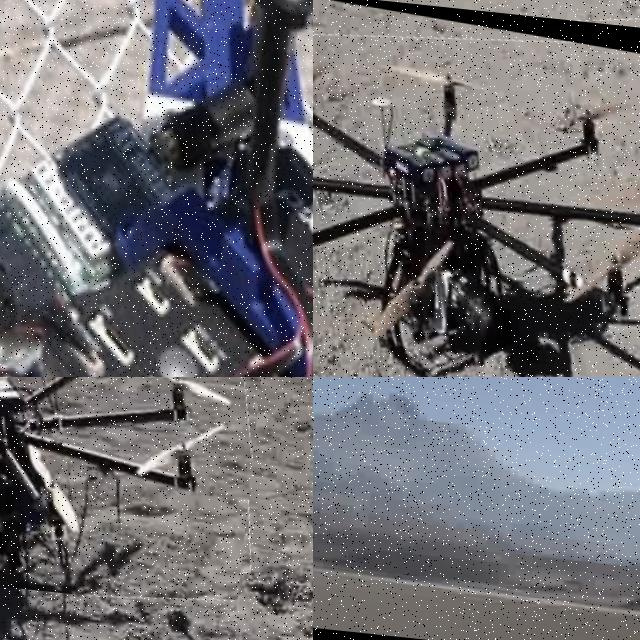0: (313, 0, 640, 377), (0, 377, 268, 611)
drone: (0, 0, 313, 377)
